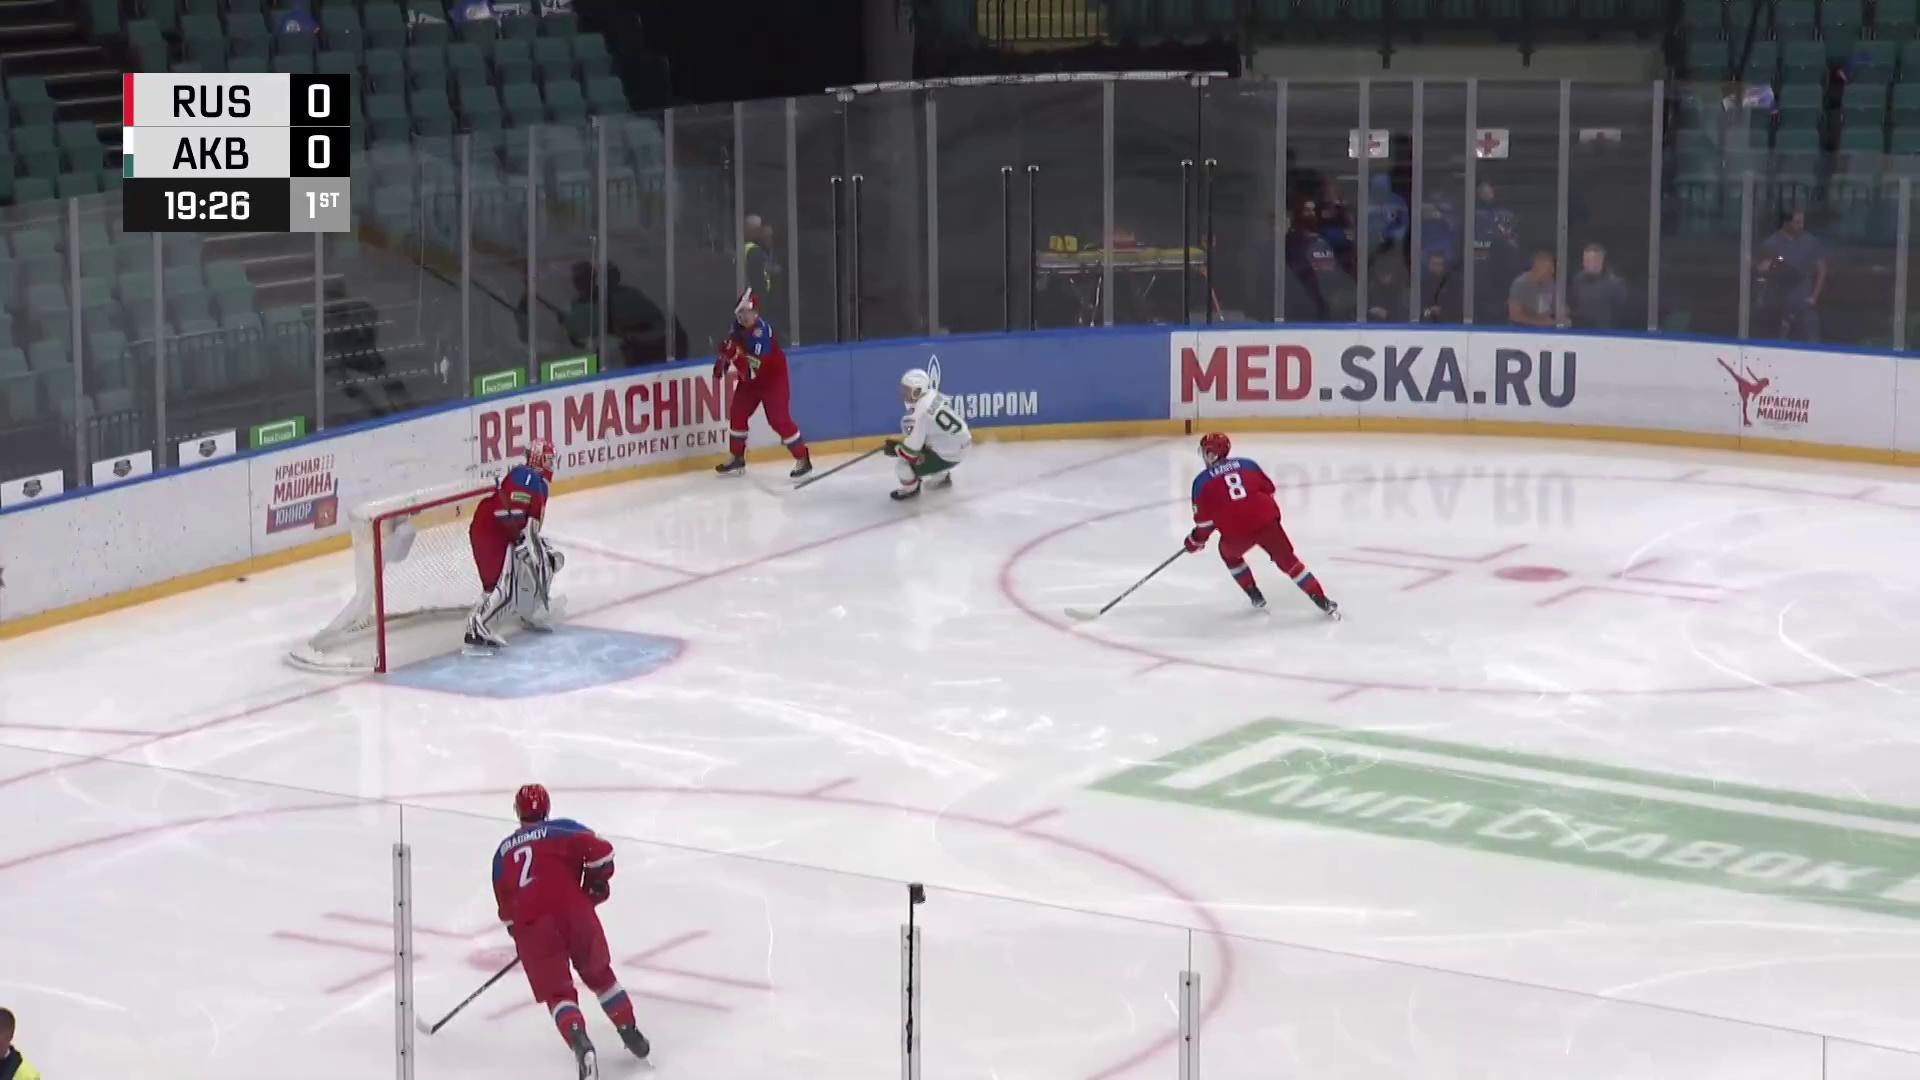ball: (236, 576, 249, 584)
